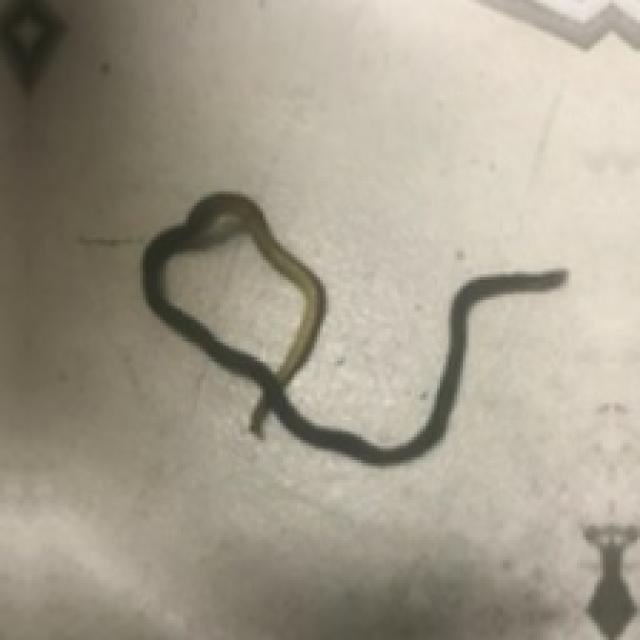gervais worm snake: (143, 191, 563, 463)
